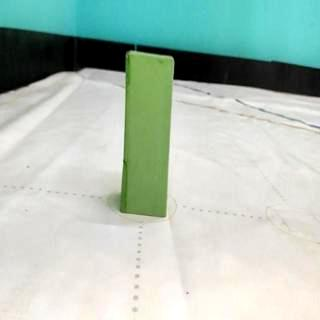greenbox: (121, 48, 176, 220)
